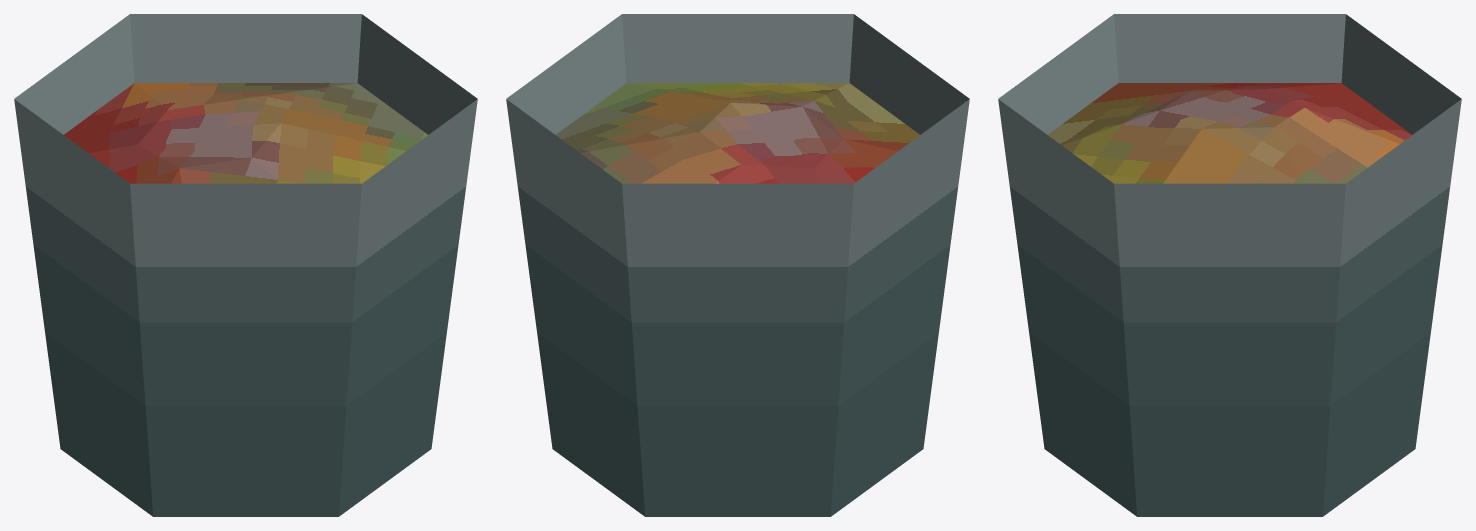
File: m_trash.fbx
3 views of the same model, side by side, from view 1: azimuth 30°, elevation 25°; view 2: azimuth 150°, elevation 25°; view 3: azimuth 270°, elevation 25° (orthographic).
Visible parts, largest first — view 1: Circle.001; view 2: Circle.001; view 3: Circle.001.
Part boxes in pixels (x1,y1,x2,y2): Circle.001: (14,14,477,516); Circle.001: (506,14,969,516); Circle.001: (998,14,1461,516).
Size of the model in its own units: 104 by 100 by 120.
Materials: 1 (1 with a texture image).
